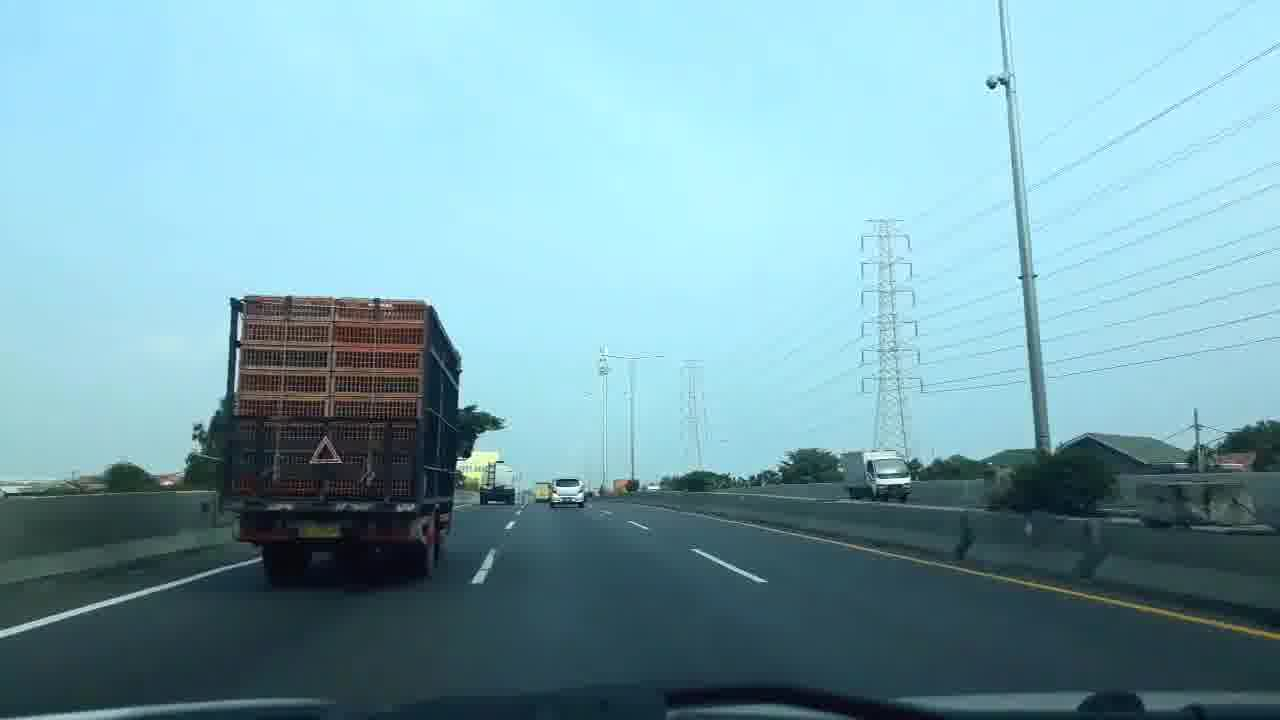plate_positive: (297, 522, 341, 538)
